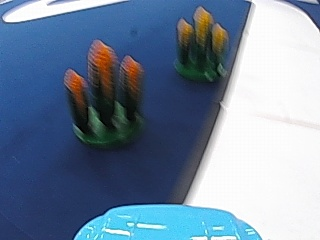corn: (68, 41, 145, 154), (172, 5, 231, 84)
